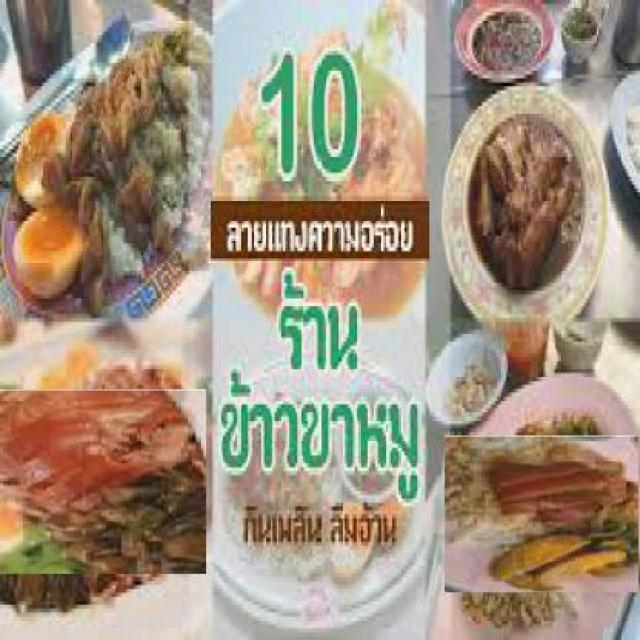Khao kha moo: (0, 378, 197, 588), (456, 422, 638, 608)
